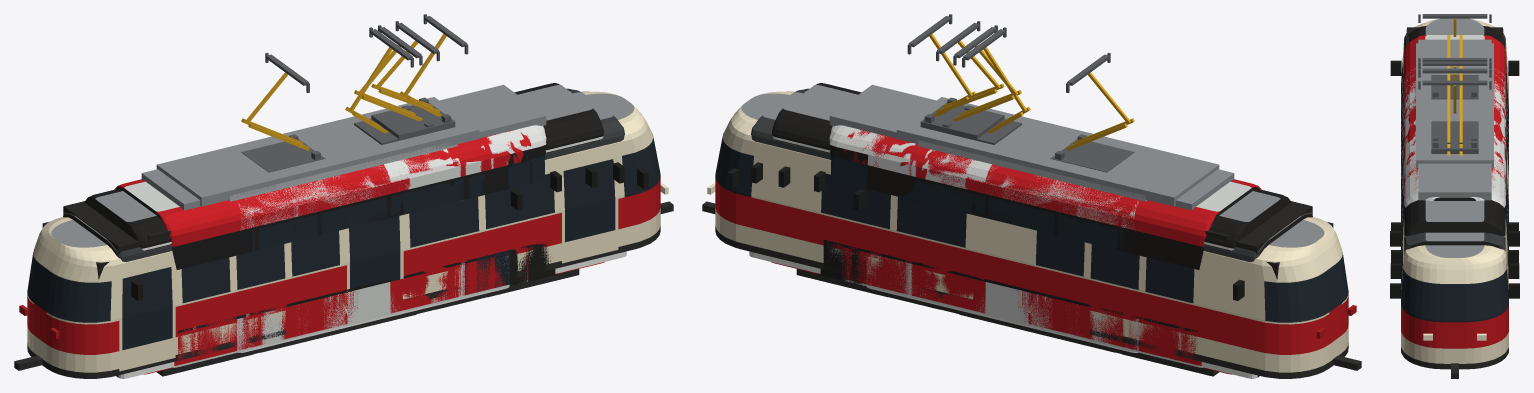
Rendered from trams.glb.
3 renders of one model, left to right at view 1: azimuth 30°, elevation 25°; view 2: azimuth 150°, elevation 25°; view 3: azimuth 270°, elevation 25°, orthographic. The views are drawn at different scales.
Parts seen in each view (by area): view 1: T3_0, 52T_0, 52T_2, 15T_0, 52T_4, 52T_1, 14T_0, 15T_1, KT8_0, 15T_2, KT8_2, KT8_1; view 2: T3_0, 52T_0, 52T_4, 15T_0, 52T_2, 52T_1, 14T_0, 15T_1, KT8_0, 15T_2, KT8_2, 14T_4 (+1 smaller); view 3: T3_0, 52T_0, 15T_0, 52T_4, 15T_2, 14T_0, KT8_2, KT8_0, 52T_1, 52T_2, 15T_1.
Boxes of the visible parts, x1,y1,x2,y2 form: T3_0: (14, 27, 673, 378); 52T_0: (92, 21, 561, 367); 52T_2: (247, 109, 494, 347); 15T_0: (63, 25, 597, 374); 52T_4: (222, 103, 532, 352); 52T_1: (290, 149, 455, 338); 14T_0: (229, 52, 522, 210); 15T_1: (169, 86, 569, 314); KT8_0: (42, 14, 624, 378); 15T_2: (113, 83, 604, 268); KT8_2: (131, 88, 626, 353); KT8_1: (238, 286, 509, 352); T3_0: (702, 27, 1361, 378); 52T_0: (814, 21, 1283, 367); 52T_4: (842, 103, 1153, 352); 15T_0: (778, 25, 1312, 374); 52T_2: (881, 109, 1127, 346); 52T_1: (922, 149, 1085, 338); 14T_0: (853, 52, 1146, 210); 15T_1: (807, 86, 1226, 314); KT8_0: (751, 14, 1333, 378); 15T_2: (771, 83, 1261, 268); KT8_2: (749, 88, 1244, 353); 14T_4: (918, 140, 1100, 190); T3_0: (1390, 18, 1519, 378); 52T_0: (1390, 35, 1519, 246); 15T_0: (1391, 25, 1518, 265); 52T_4: (1403, 68, 1506, 222); 15T_2: (1404, 31, 1505, 237); 14T_0: (1391, 14, 1518, 237); KT8_2: (1390, 45, 1519, 251); KT8_0: (1390, 29, 1519, 278); 52T_1: (1403, 90, 1506, 189); 52T_2: (1403, 73, 1506, 204); 15T_1: (1405, 42, 1504, 214).
Bounding box in the file's own units: 15.1 × 5.54 × 3.
